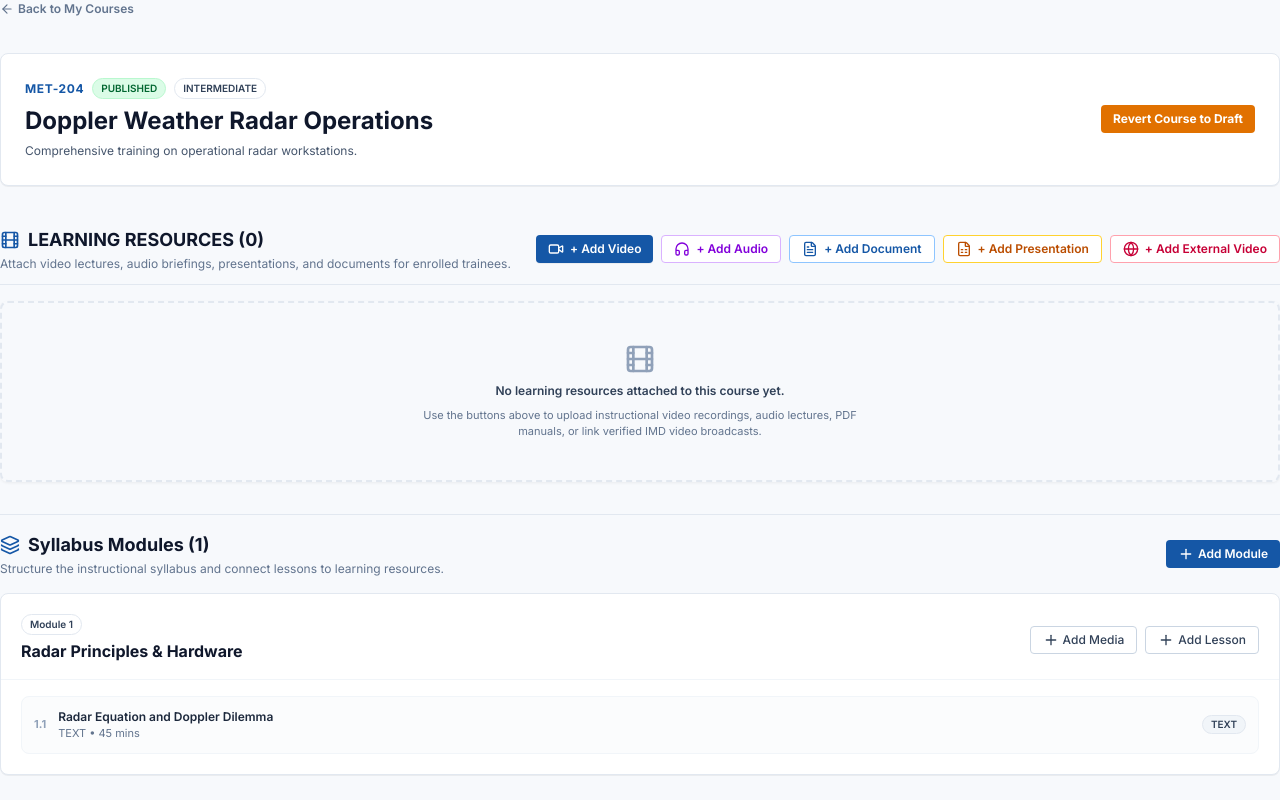
Test case: Course Video & Audio Learning Resources Feature Suite › opens add video modal when + Add Video is clicked
Click the button "+ Add Video": [595, 248] box [536, 234, 653, 262]
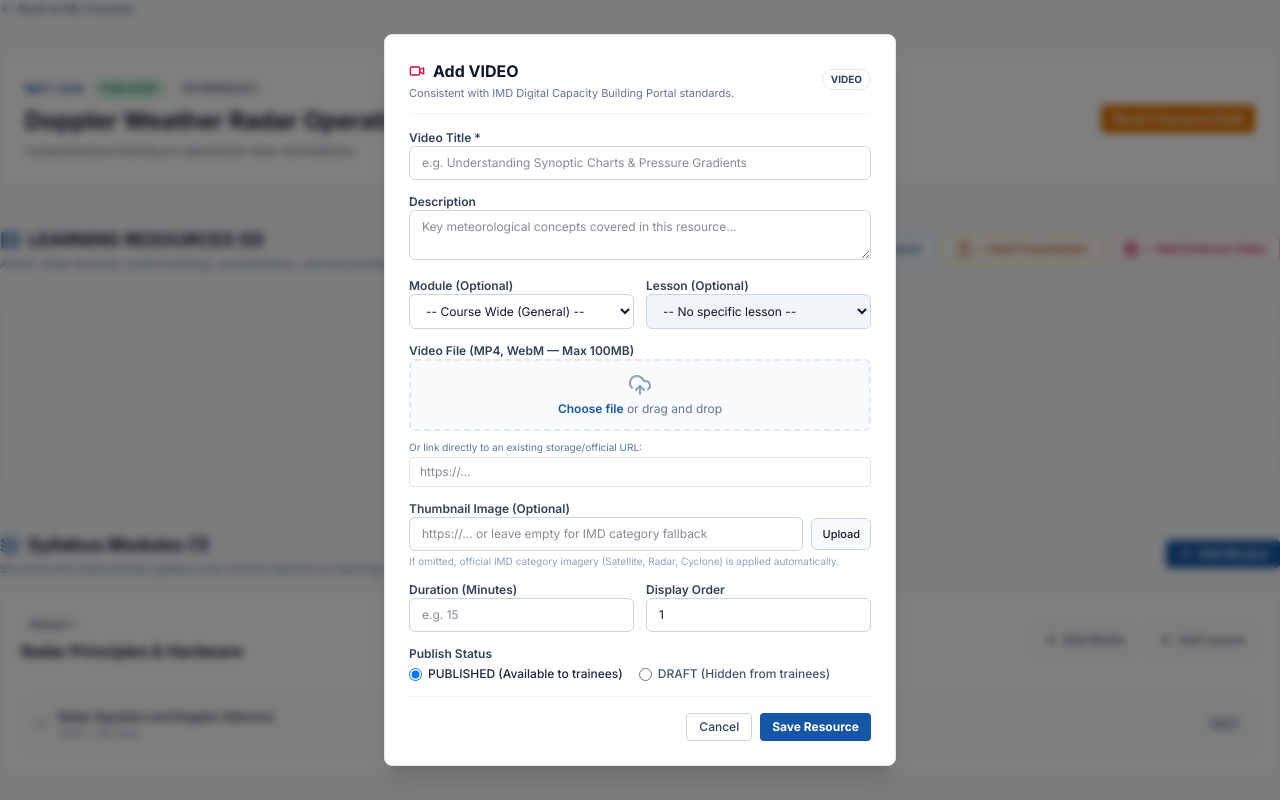
Result: the text "VIDEO" is shown at [822, 69, 871, 90]
Result: the button "Save Resource" is shown at [760, 713, 871, 741]
